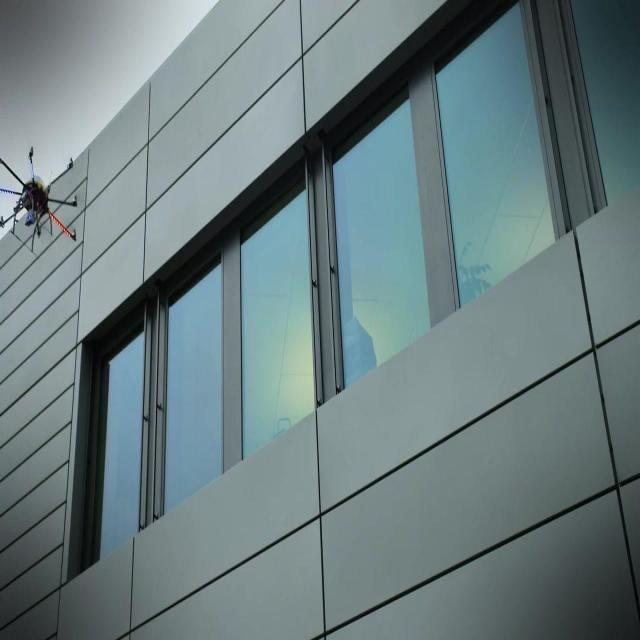UAV: (1, 144, 79, 255)
